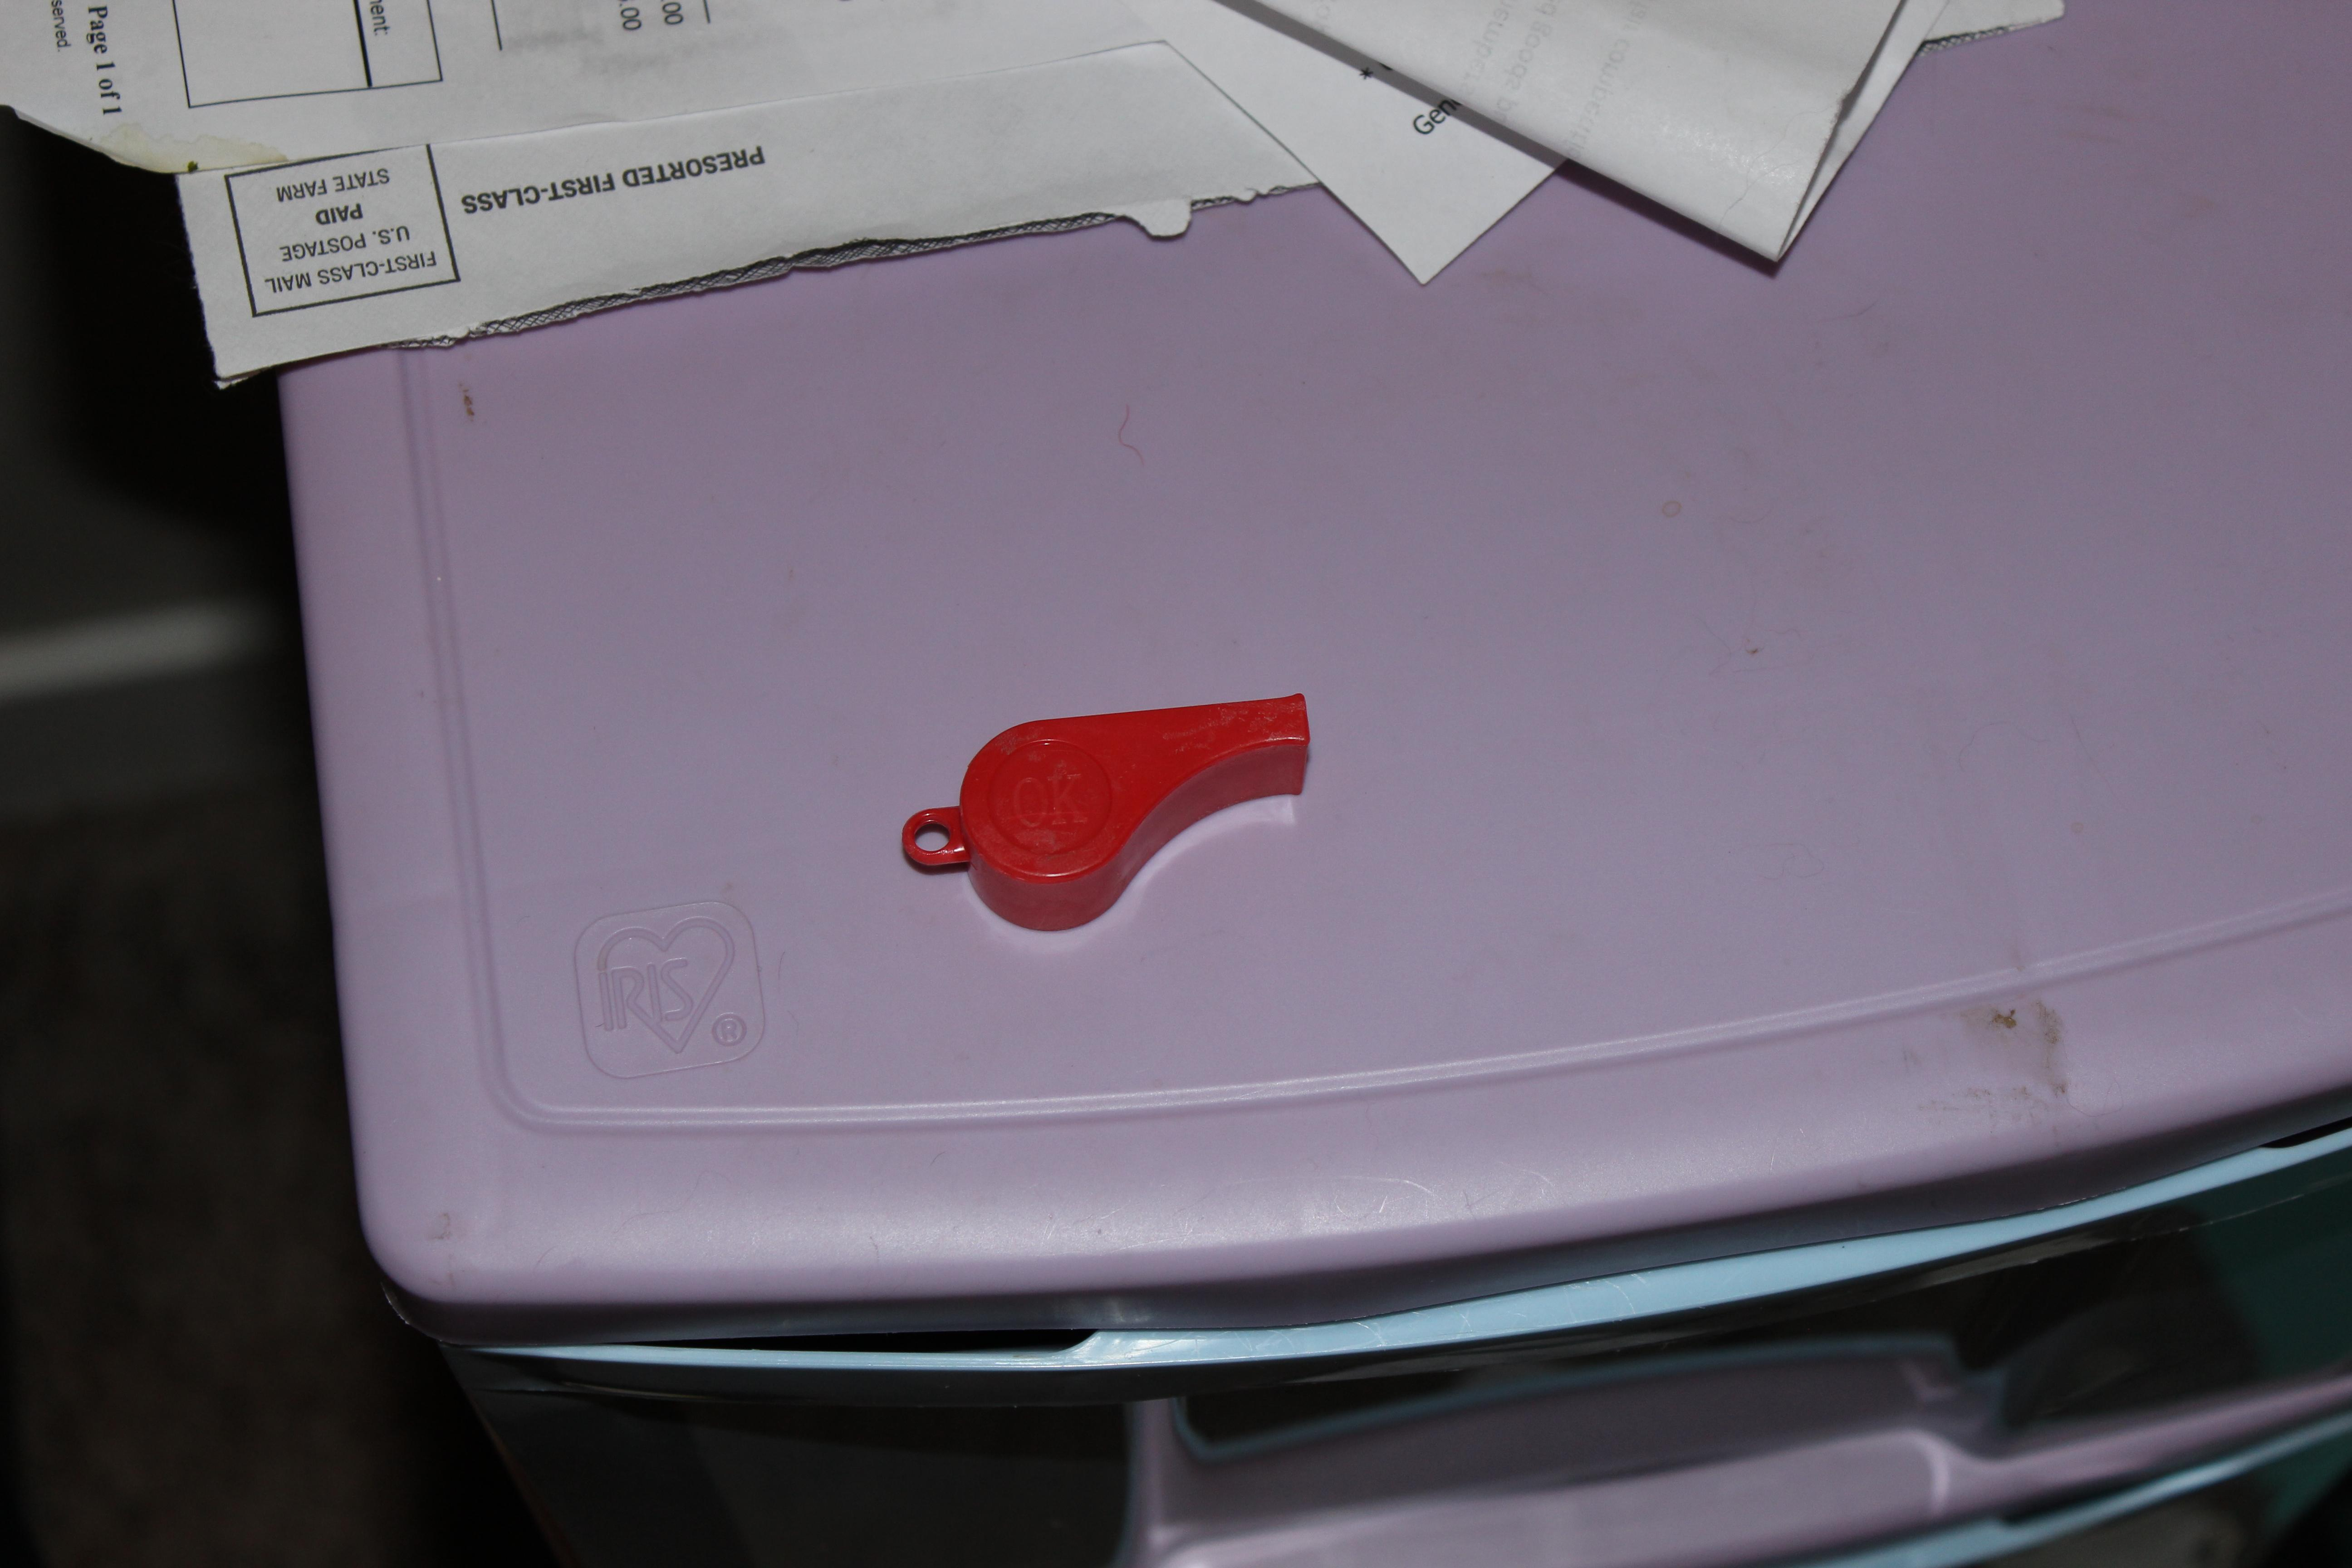redWhistle: (884, 674, 1346, 970)
